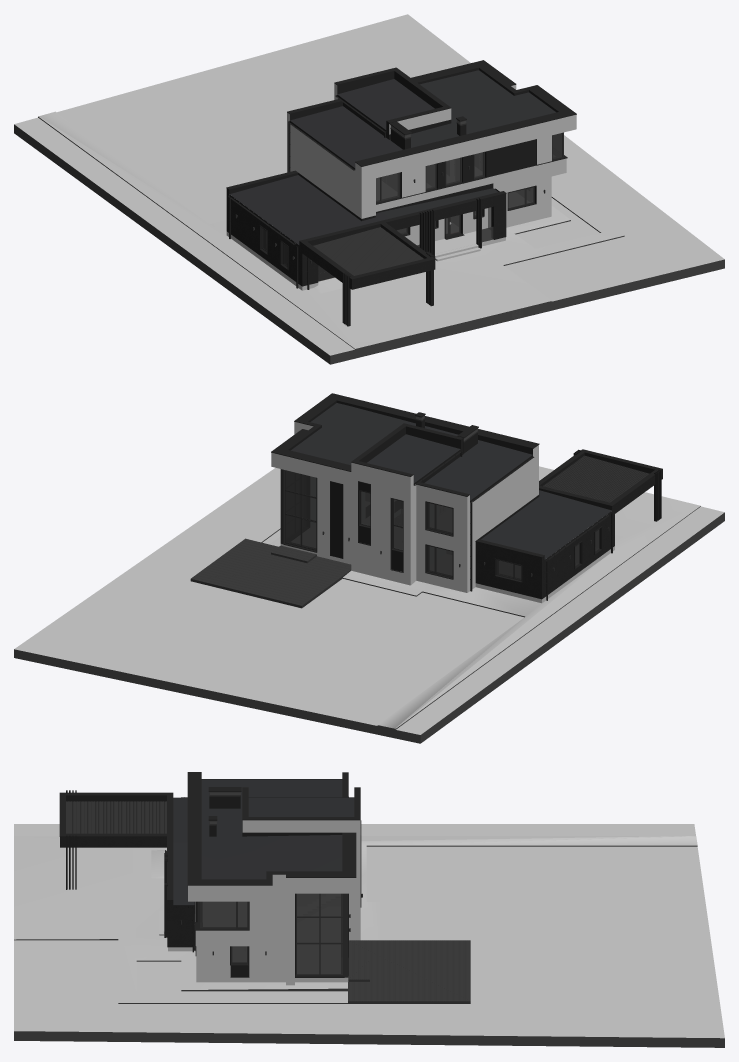
The picture shows the model from 3 angles, top to bottom: view 1: azimuth 30°, elevation 25°; view 2: azimuth 150°, elevation 25°; view 3: azimuth 270°, elevation 25°; orthographic projection. The views are drawn at different scales.
Parts seen in each view (by area): view 1: object 10, object 6, object 19, object 21, object 28, Grey Rubber, object 16, object 22, object 27, object 1, object 29, object 4 (+3 smaller); view 2: object 10, object 19, object 21, object 6, object 28, Flooring_Tiles_Roca_PIEMONTE-MOSAICO-PIEMONTE-MARFIL-25X45 (, object 23, object 16, object 27, object 18, Grey Rubber, object 22 (+3 smaller); view 3: object 10, object 6, object 19, object 21, Grey Rubber, Flooring_Tiles_Roca_PIEMONTE-MOSAICO-PIEMONTE-MARFIL-25X45 (, object 27, object 29, object 22, object 28, object 23, object 16 (+2 smaller).
Part boxes in pixels (x1,y1,x2,y2): object 10: (14, 14, 724, 355); object 6: (38, 111, 624, 348); object 19: (229, 70, 555, 245); object 21: (226, 60, 576, 326); object 28: (287, 112, 576, 218); Grey Rubber: (14, 116, 724, 364); object 16: (226, 189, 506, 289); object 22: (313, 119, 466, 275); object 27: (263, 133, 561, 265); object 1: (402, 135, 551, 245); object 29: (497, 85, 551, 223); object 4: (262, 132, 563, 281); object 10: (14, 467, 724, 734); object 19: (291, 403, 611, 559); object 21: (271, 393, 662, 600); object 6: (247, 466, 700, 728); object 28: (294, 421, 538, 588); Flooring_Tiles_Roca_PIEMONTE-MOSAICO-PIEMONTE-MARFIL-25X45 (: (190, 538, 351, 608); object 23: (351, 462, 416, 580); object 16: (475, 470, 662, 599); object 27: (286, 470, 598, 579); object 18: (14, 649, 420, 743); Grey Rubber: (261, 506, 724, 743); object 22: (415, 414, 649, 502); object 10: (14, 824, 724, 1038); object 6: (14, 836, 697, 1002); object 19: (173, 779, 354, 905); object 21: (59, 772, 361, 977); Grey Rubber: (14, 845, 724, 1047); Flooring_Tiles_Roca_PIEMONTE-MOSAICO-PIEMONTE-MARFIL-25X45 (: (348, 940, 470, 1003); object 27: (200, 893, 342, 974); object 29: (196, 874, 355, 980); object 22: (66, 791, 240, 833); object 28: (188, 885, 272, 946); object 23: (242, 820, 360, 936); object 16: (60, 837, 195, 947).
Bounding box in the file's own units: 33.08 × 9.59 × 46.4.
